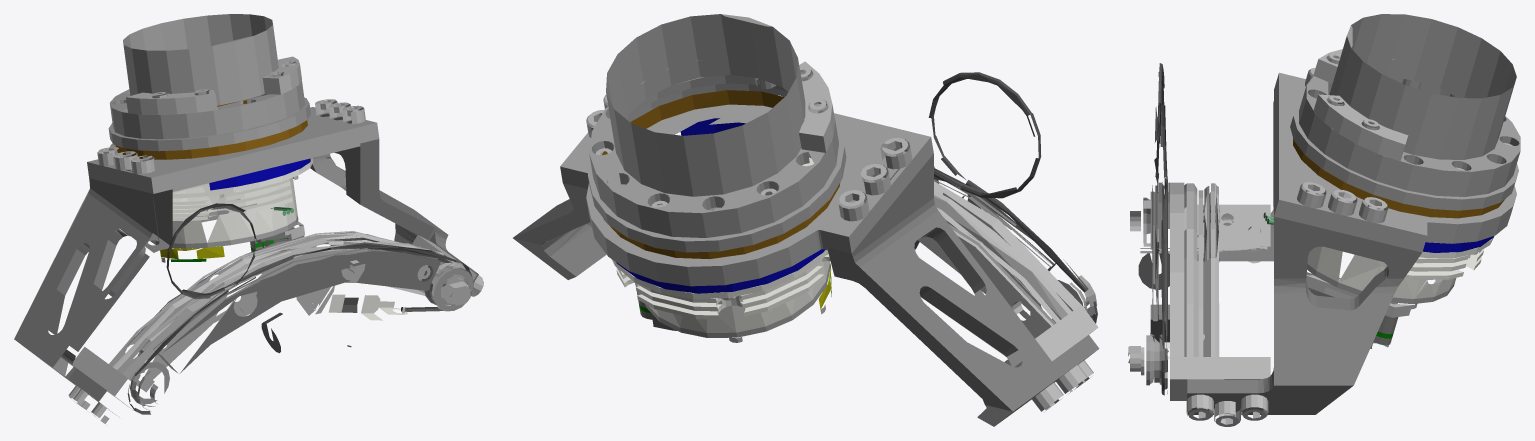
File: ArmL_Sho1_joint_visu.dae
3 views of the same model, side by side, from view 1: azimuth 30°, elevation 25°; view 2: azimuth 150°, elevation 25°; view 3: azimuth 270°, elevation 25° (orthographic). The views are drawn at different scales.
Parts seen in each view (by area): view 1: Visualization_ALDof1; view 2: Visualization_ALDof1; view 3: Visualization_ALDof1.
Part boxes in pixels (bbox=[...]): Visualization_ALDof1: bbox=[14, 14, 483, 423]; Visualization_ALDof1: bbox=[513, 14, 1099, 426]; Visualization_ALDof1: bbox=[1128, 14, 1520, 426].
Size of the model in its own units: 0.165 by 0.1227 by 0.1156.
